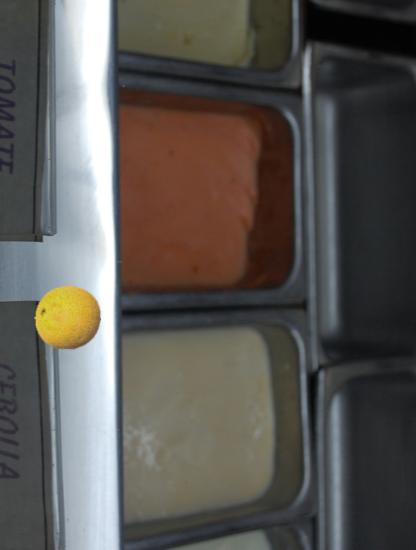Cantaloupe: (34, 284, 102, 352)
